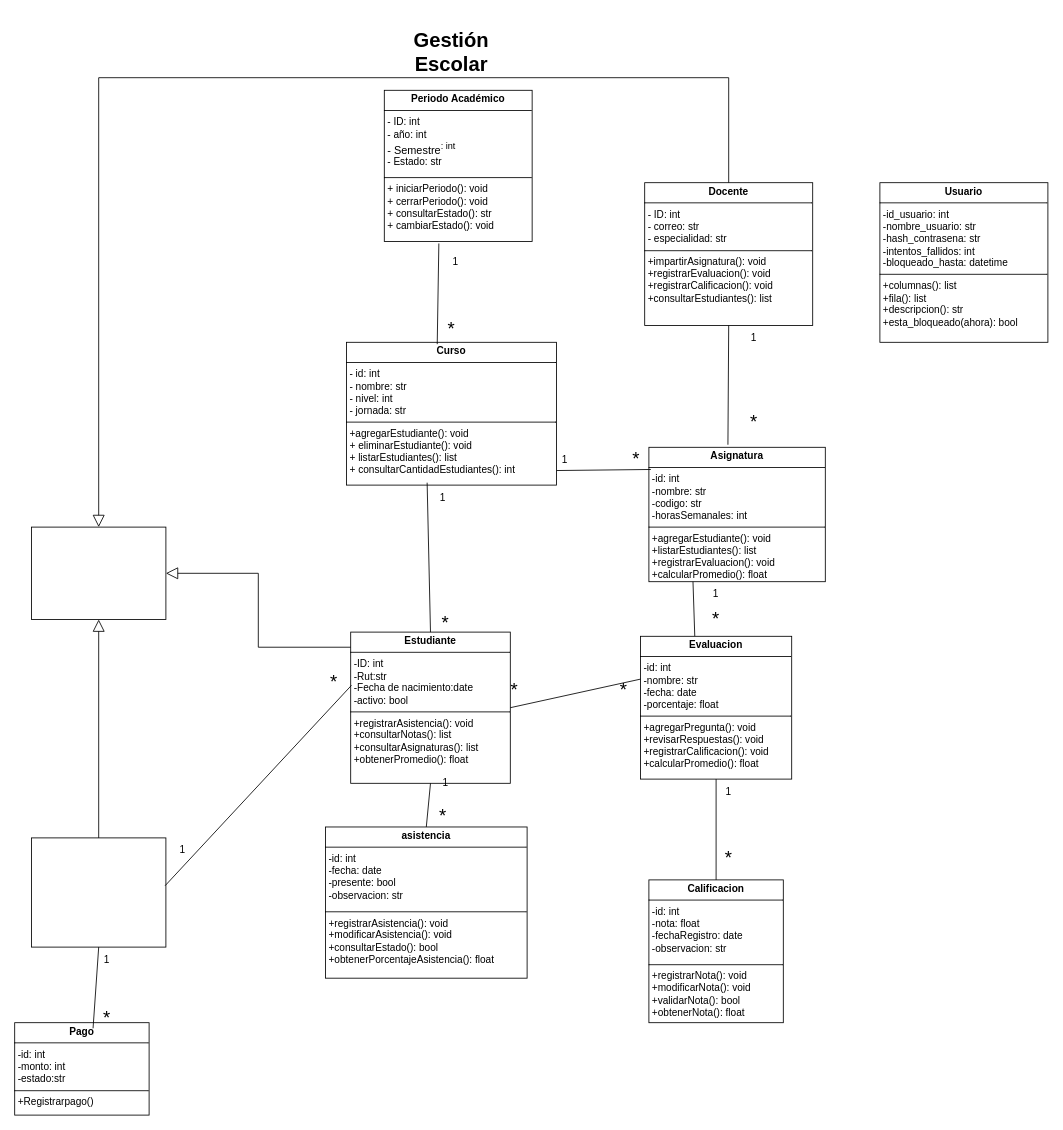
The diagram is 1063 pixels wide and 1130 high, and some of its shapes have lost their labels. Each missing label, with the centre of its shape:
"Apoderado -id: int -rut:str -telefono:str +mostrardatos()" belongs at (98,892).
"Persona -nombre: str +tipo(): str +mostrarDatos(): str" belongs at (98,573).
